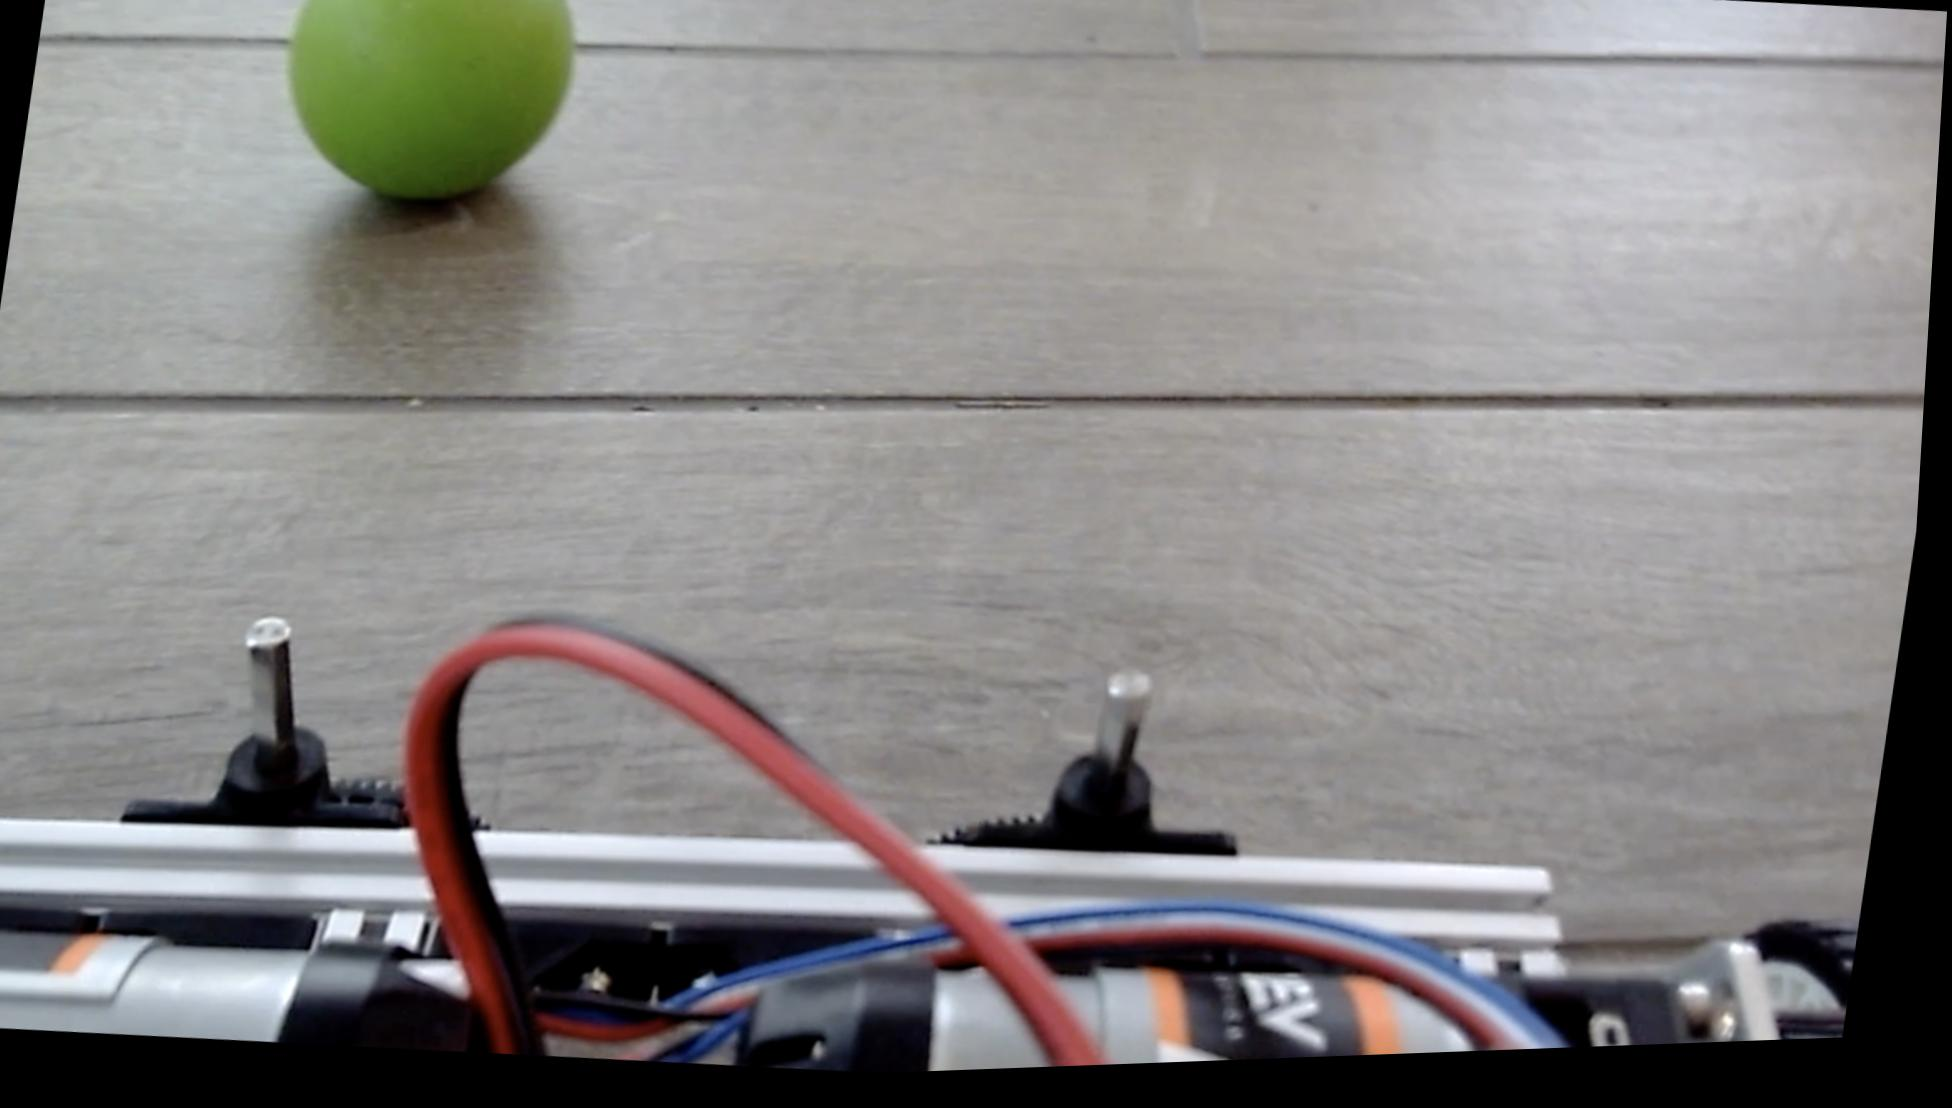greenball: (265, 0, 593, 223)
